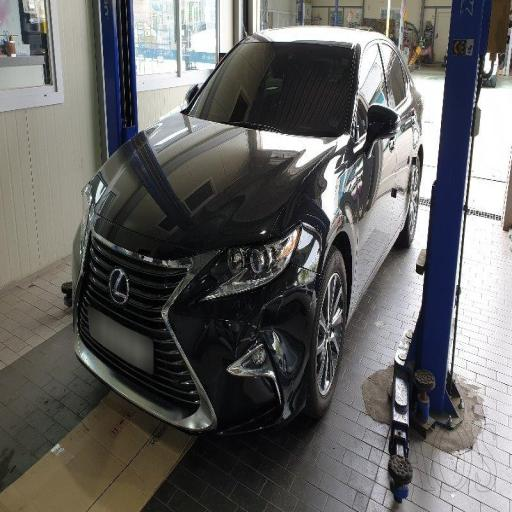broken: (183, 220, 338, 442)
